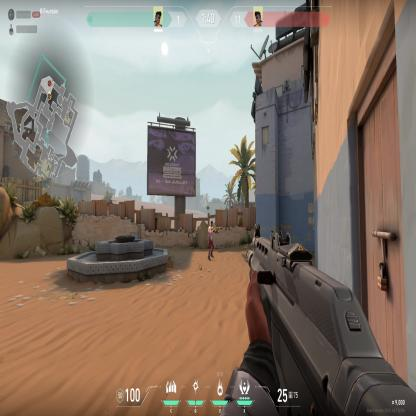enemy: (207, 219, 216, 262)
